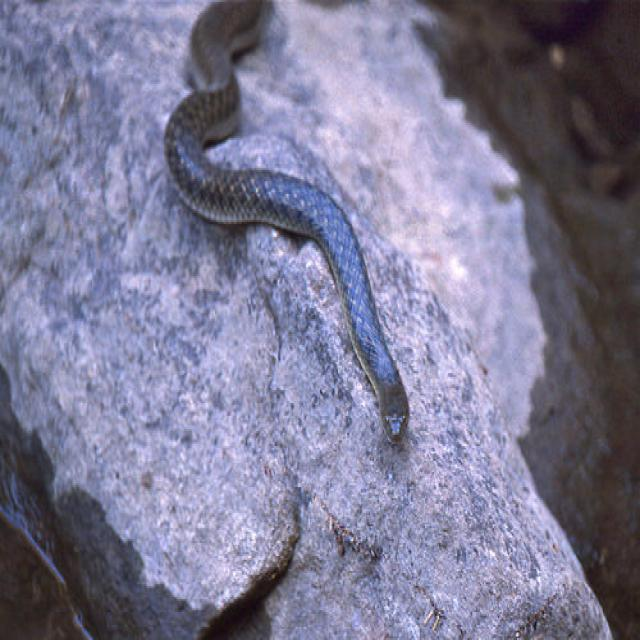Snake: (161, 0, 411, 448)
